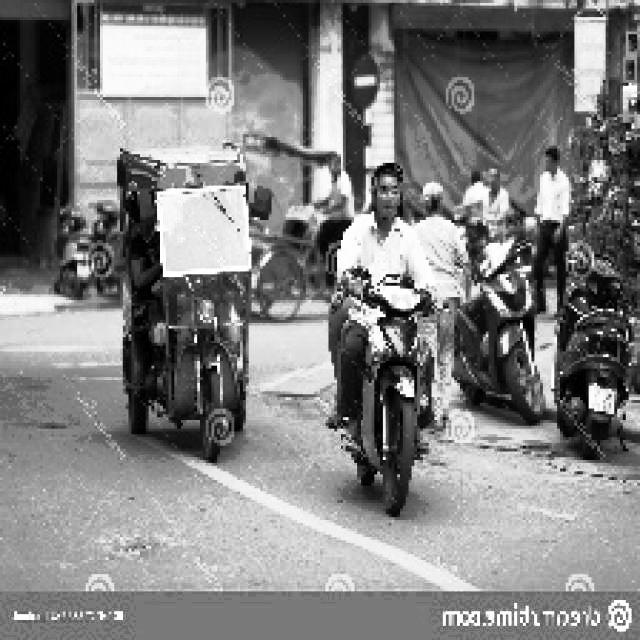Bike: (353, 270, 435, 512), (463, 267, 555, 437), (570, 246, 628, 454)
